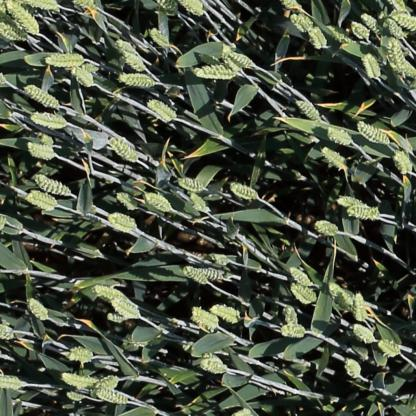whd: (6, 0, 41, 36), (388, 35, 414, 77), (107, 209, 141, 236), (24, 189, 60, 214), (357, 120, 391, 145), (188, 64, 241, 80), (58, 370, 93, 394), (24, 84, 60, 107), (118, 70, 158, 90), (44, 50, 86, 69), (108, 136, 138, 162), (62, 346, 95, 368), (26, 142, 59, 164), (35, 175, 71, 195), (221, 43, 244, 74), (225, 48, 257, 70), (90, 374, 120, 397), (330, 282, 356, 308), (193, 306, 219, 332), (0, 22, 30, 44), (327, 25, 358, 46), (362, 49, 383, 80), (390, 10, 416, 35), (120, 48, 147, 72), (201, 350, 229, 373), (289, 281, 317, 304), (31, 113, 71, 129), (93, 286, 130, 303), (209, 302, 240, 322), (26, 297, 50, 322), (195, 50, 226, 69), (392, 148, 413, 176), (148, 100, 177, 120), (187, 189, 210, 214), (321, 147, 348, 168), (327, 127, 355, 147), (144, 192, 172, 212), (289, 266, 314, 288), (297, 99, 322, 121), (178, 0, 208, 18), (278, 322, 308, 340), (290, 12, 314, 34), (93, 390, 130, 404), (112, 300, 140, 318), (183, 267, 209, 286), (230, 183, 260, 199), (72, 66, 96, 86), (347, 208, 381, 222), (309, 25, 328, 50), (314, 219, 340, 236), (360, 12, 382, 32), (149, 27, 171, 47), (344, 357, 363, 380), (0, 375, 25, 392), (356, 290, 368, 325), (353, 325, 376, 343), (116, 192, 139, 210), (178, 177, 206, 191), (203, 253, 235, 265), (284, 303, 298, 330), (35, 132, 56, 150), (195, 268, 226, 280), (157, 0, 180, 16), (378, 341, 402, 356), (338, 196, 368, 208), (79, 61, 107, 73), (116, 38, 137, 54), (387, 18, 403, 38), (352, 22, 371, 38), (387, 0, 407, 15), (26, 0, 58, 9), (106, 313, 131, 323), (74, 0, 96, 10), (0, 326, 15, 340), (66, 391, 88, 400)
